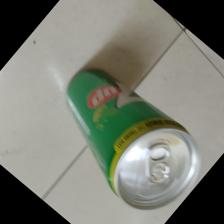7up: (63, 67, 198, 211)
